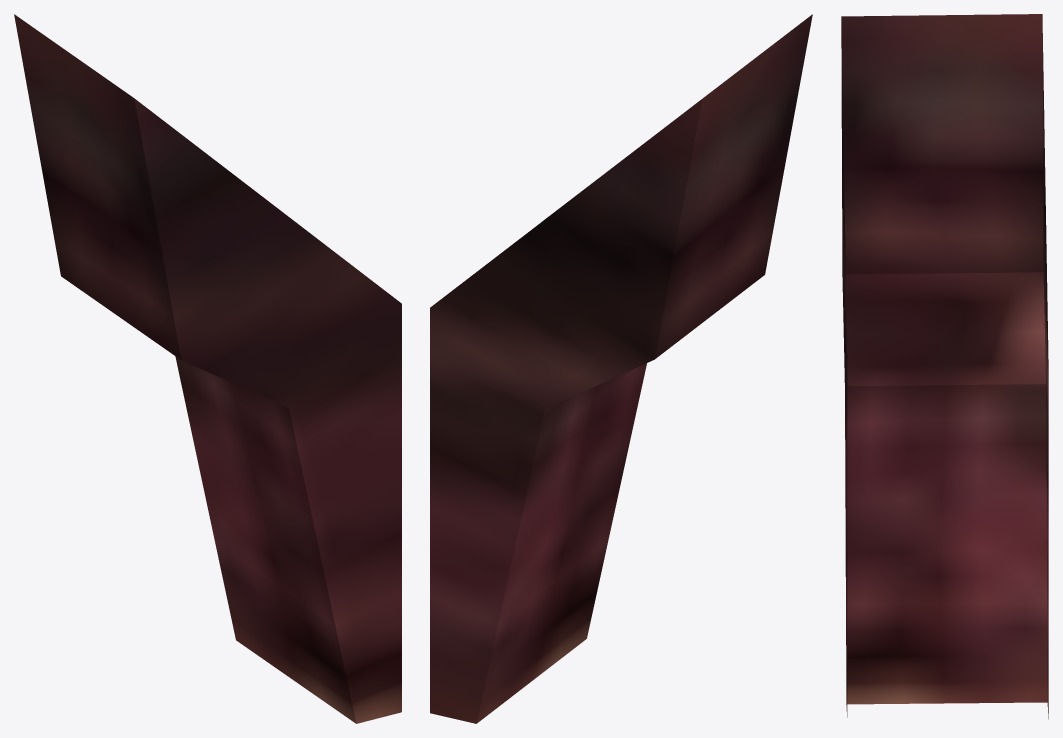
The model's file is object_236_lev3.glb.
The picture shows the model from 3 angles, left to right: view 1: azimuth 30°, elevation 25°; view 2: azimuth 150°, elevation 25°; view 3: azimuth 270°, elevation 25°; orthographic projection. The views are drawn at different scales.
Parts seen in each view (by area): view 1: object_236_lev3; view 2: object_236_lev3; view 3: object_236_lev3.
Boxes of the visible parts, bbox=[...] form: object_236_lev3: bbox=[14, 14, 401, 723]; object_236_lev3: bbox=[430, 14, 812, 723]; object_236_lev3: bbox=[841, 14, 1048, 719].
Bounding box in the file's own units: 0.3565 × 0.8444 × 0.2674.
1 material, 1 textured.
